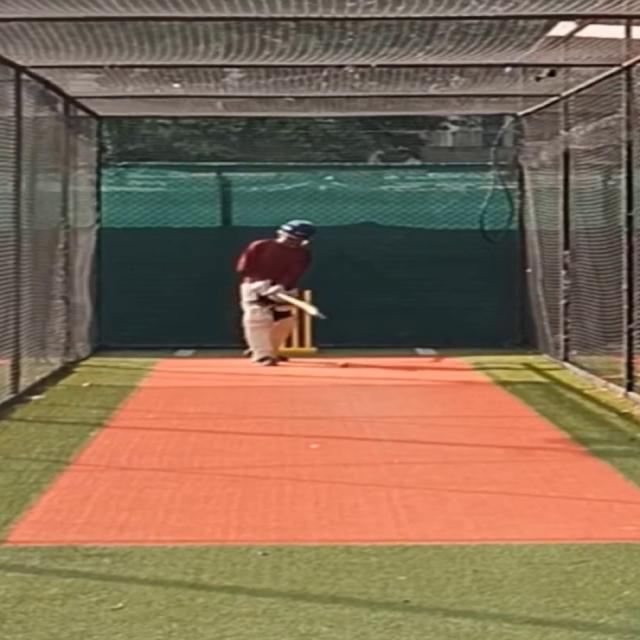ball: (336, 360, 356, 371)
stump: (290, 289, 314, 354)
